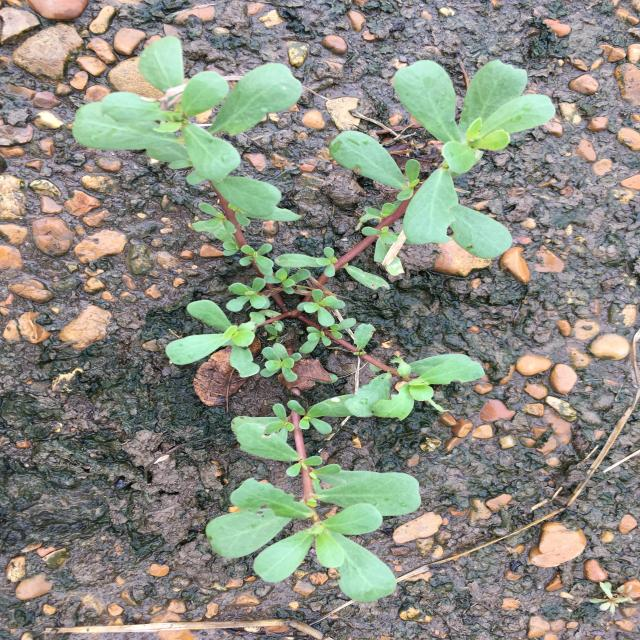Purslane: (73, 36, 555, 602)
